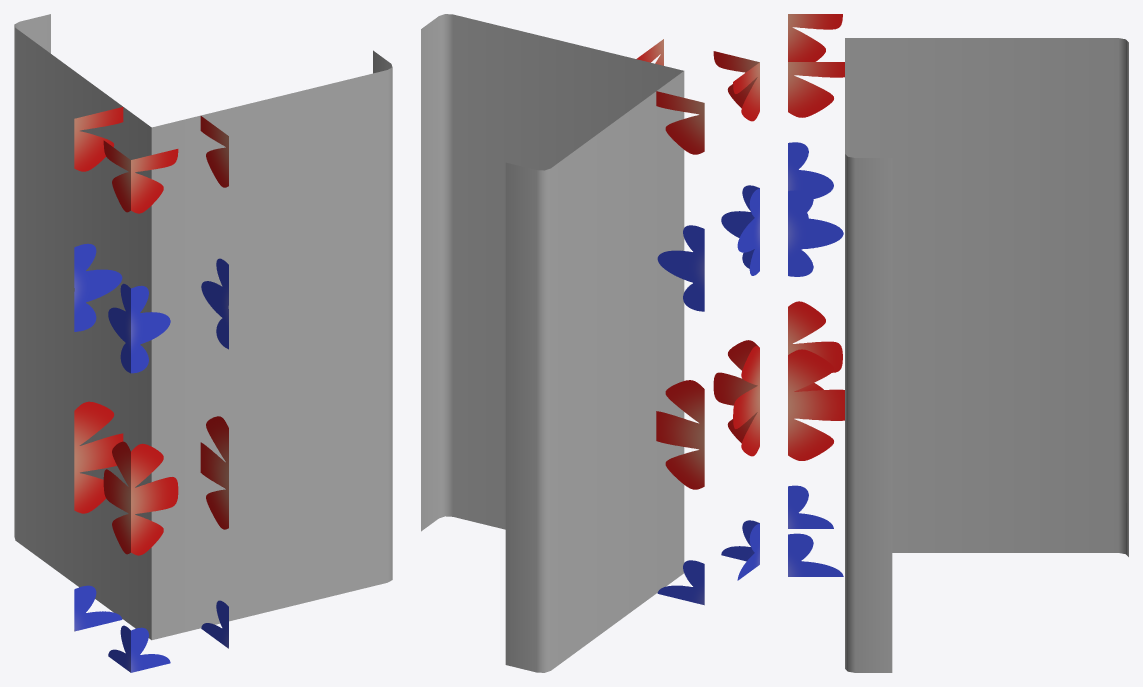
Rendered from SM_SS02_Corner.fbx.
3 renders of one model, left to right at view 1: azimuth 30°, elevation 25°; view 2: azimuth 150°, elevation 25°; view 3: azimuth 270°, elevation 25°, orthographic. The views are drawn at different scales.
Parts seen in each view (by area): view 1: SM_SS02_Corner; view 2: SM_SS02_Corner; view 3: SM_SS02_Corner.
Part boxes in pixels (x1=…): SM_SS02_Corner: x1=14, y1=14, x2=392, y2=672; SM_SS02_Corner: x1=421, y1=14, x2=759, y2=672; SM_SS02_Corner: x1=788, y1=14, x2=1128, y2=672.
Bounding box in the file's own units: 180 × 300 × 180.
